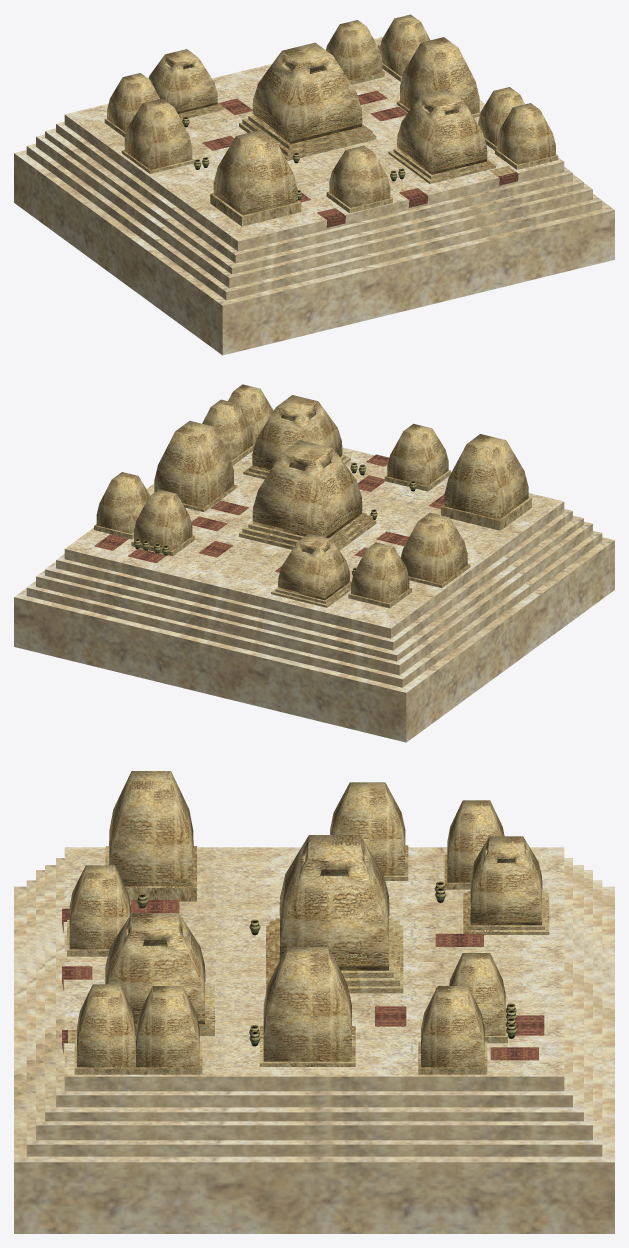
The model's file is wonder.dae.
The picture shows the model from 3 angles, top to bottom: view 1: azimuth 30°, elevation 25°; view 2: azimuth 150°, elevation 25°; view 3: azimuth 270°, elevation 25°; orthographic projection. The views are drawn at different scales.
Parts seen in each view (by area): view 1: wonder; view 2: wonder; view 3: wonder.
Part boxes in pixels (<box>): wonder: <box>14,14,614,355</box>; wonder: <box>14,384,614,742</box>; wonder: <box>14,771,614,1233</box>.
Size of the model in its own units: 52.08 by 47.97 by 21.94.
